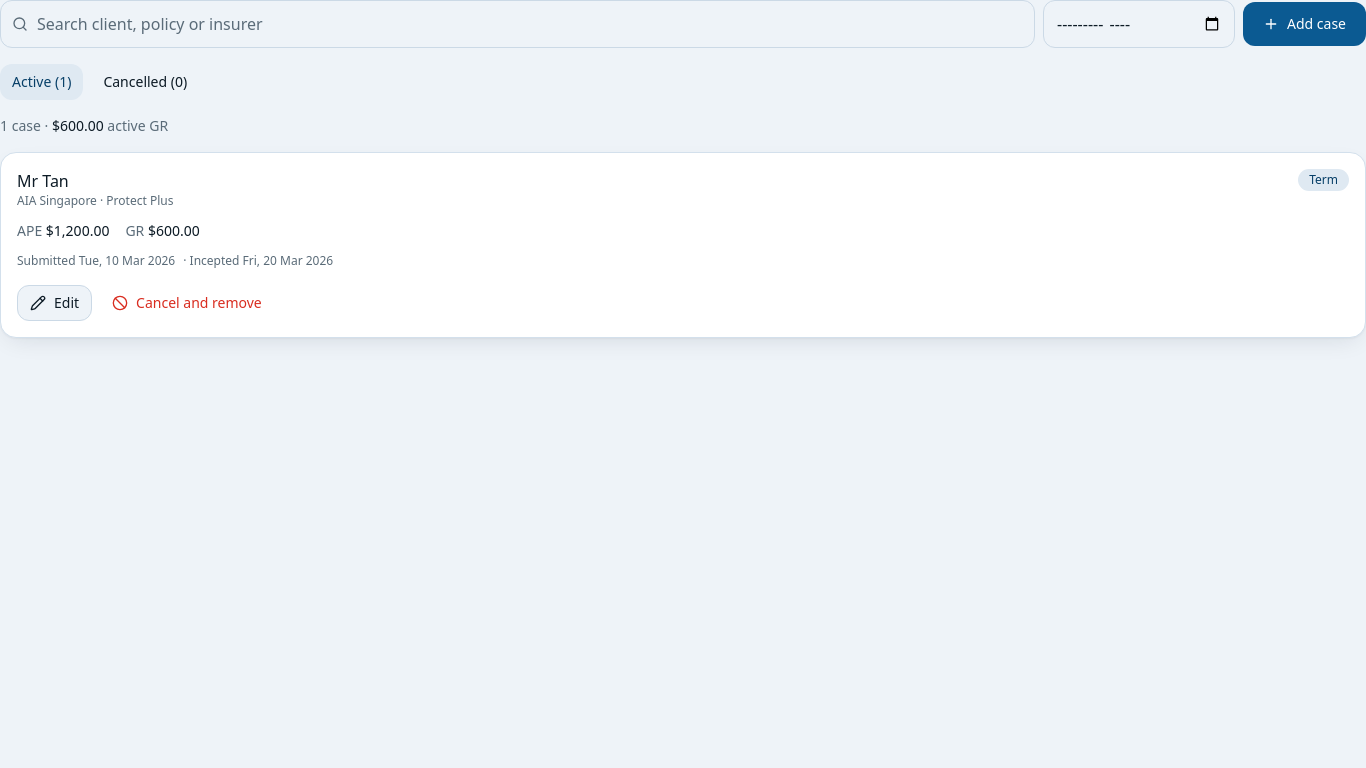
Test: case list › refuses to cancel without a reason
Click the button "Cancel and remove" at [187, 303], box [100,285,274,321]
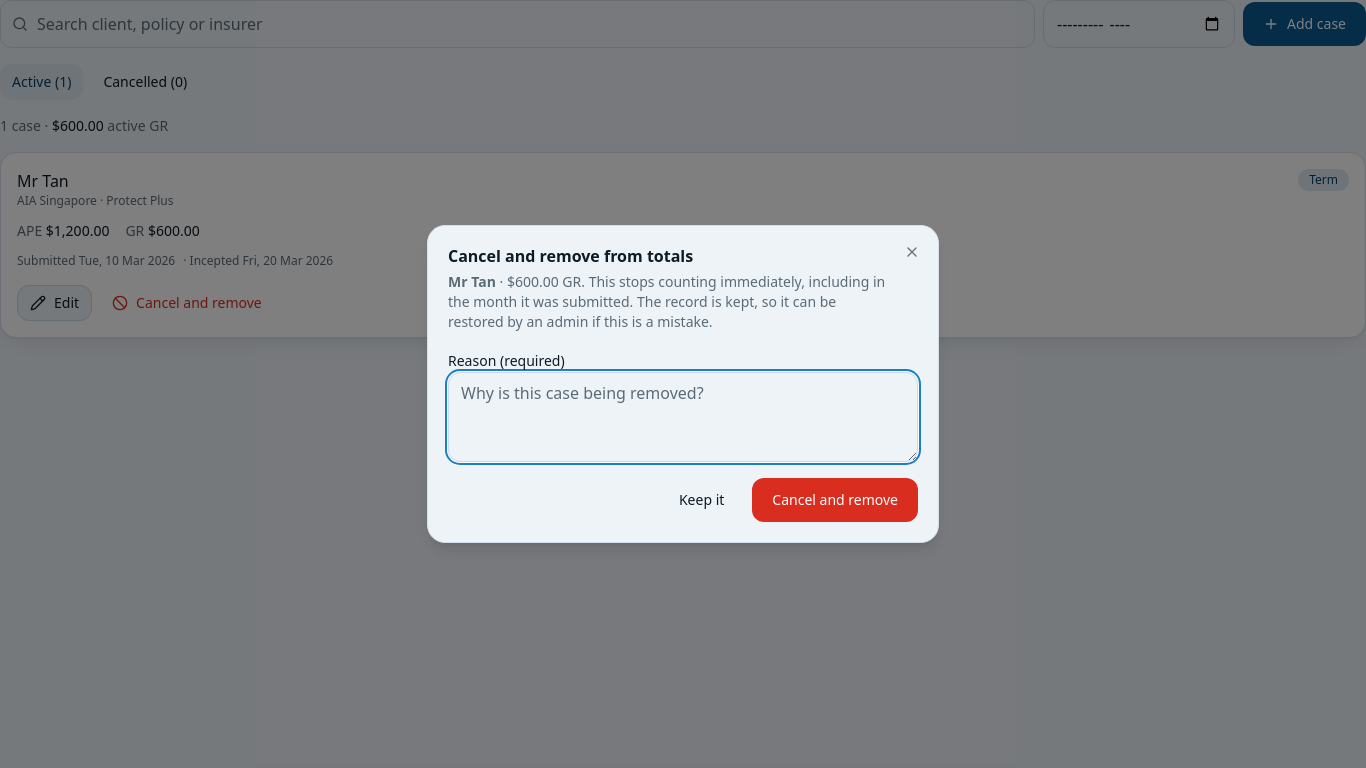
Click the button with test id "confirm-cancel-case" at [835, 500], box [752,478,918,522]
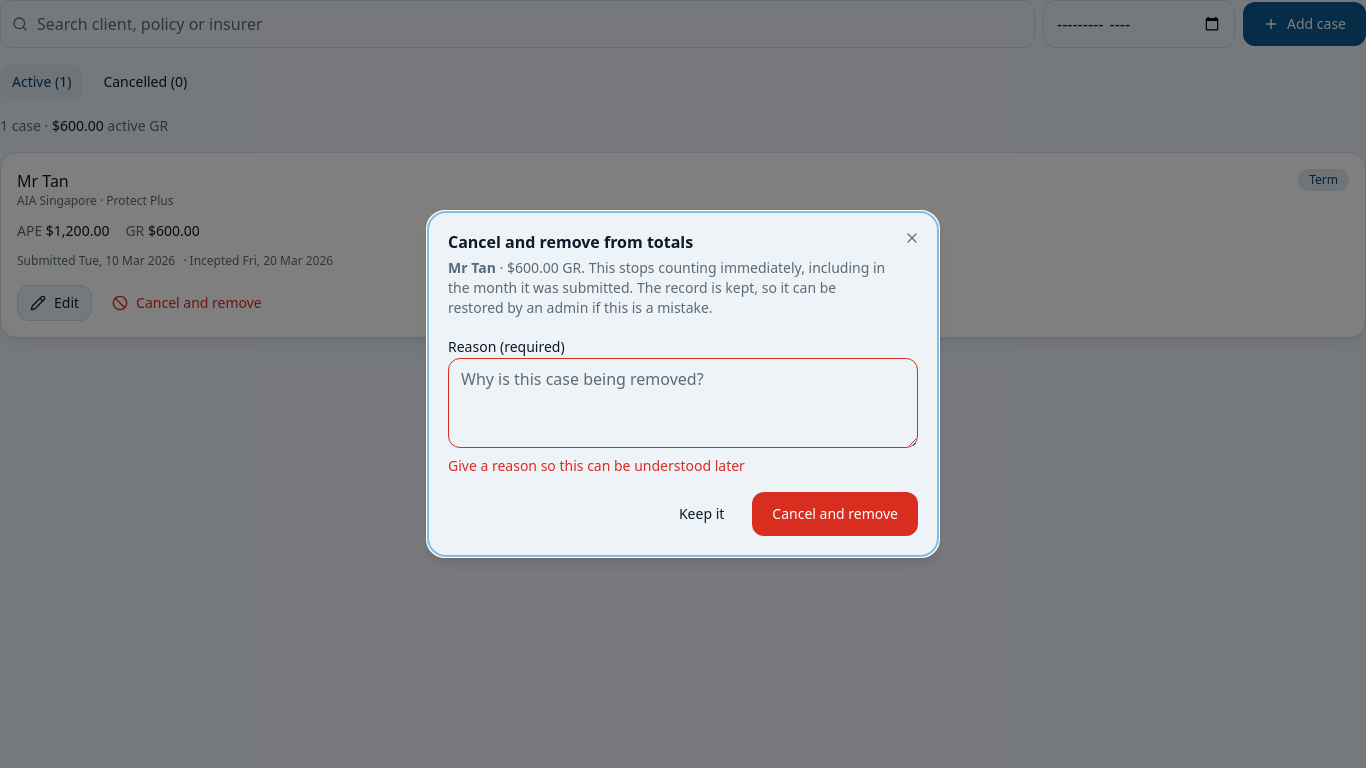
Expected: the text "Give a reason so this can be understood later" is shown, [448,456,745,475]
